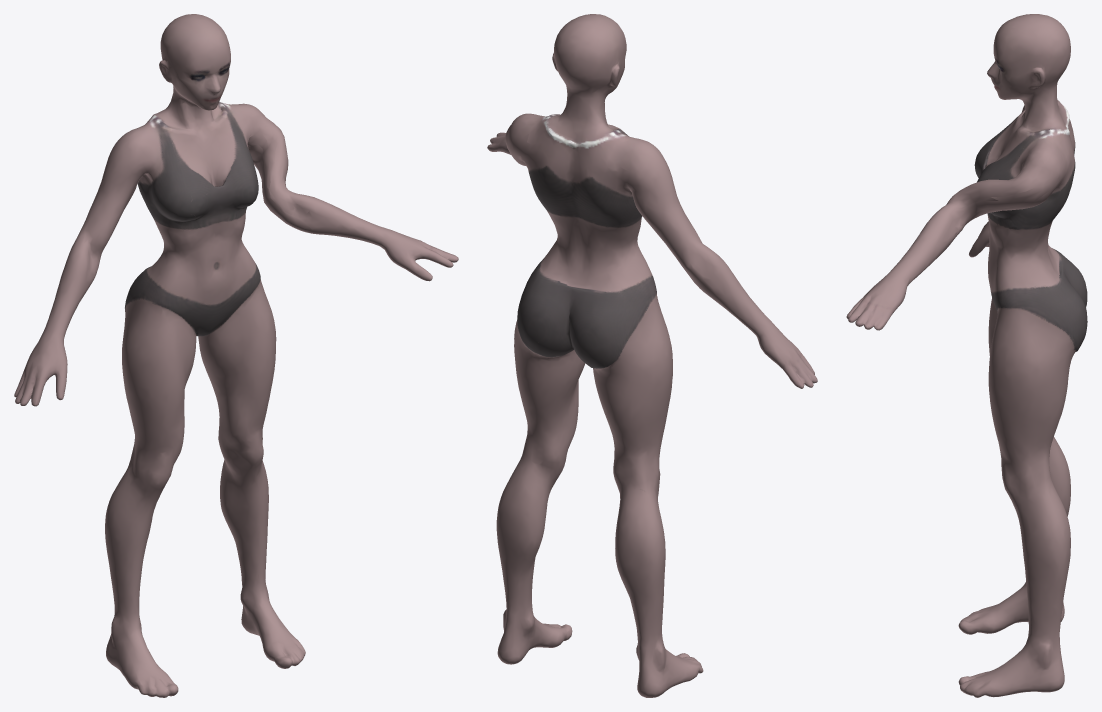
The model's file is 19-UpperArmR-60-child60-twist20-candidate.glb.
3 views of the same model, side by side, from view 1: azimuth 30°, elevation 25°; view 2: azimuth 150°, elevation 25°; view 3: azimuth 270°, elevation 25° (orthographic). The views are drawn at different scales.
Visible parts, largest first — view 1: candidate; view 2: candidate; view 3: candidate.
Part boxes in pixels (x1,y1,x2,y2): candidate: (14, 14, 458, 697); candidate: (487, 14, 817, 697); candidate: (846, 14, 1087, 697).
Size of the model in its own units: 0.6186 by 1 by 0.3402.
1 material, 1 textured.
